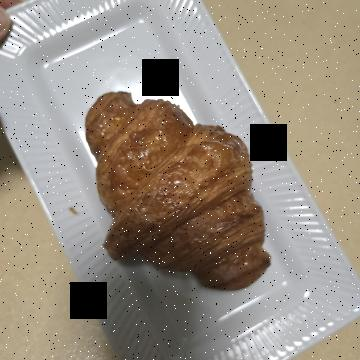croissant: (64, 79, 297, 286)
